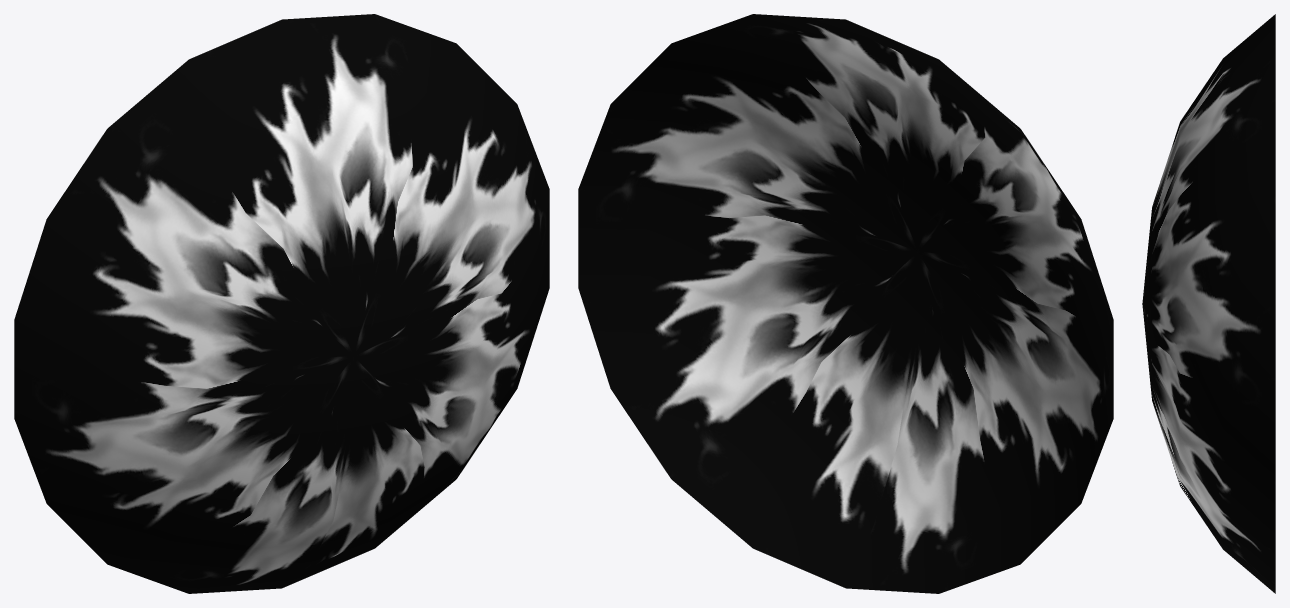
The picture shows the model from 3 angles, left to right: view 1: azimuth 30°, elevation 25°; view 2: azimuth 150°, elevation 25°; view 3: azimuth 270°, elevation 25°; orthographic projection. The views are drawn at different scales.
Visible parts, largest first — view 1: Sphere001; view 2: Sphere001; view 3: Sphere001.
Boxes of the visible parts, x1,y1,x2,y2 form: Sphere001: [14, 14, 549, 593]; Sphere001: [578, 14, 1113, 593]; Sphere001: [1142, 14, 1275, 593].
Bounding box in the file's own units: 66.06 × 15.35 × 67.08.
